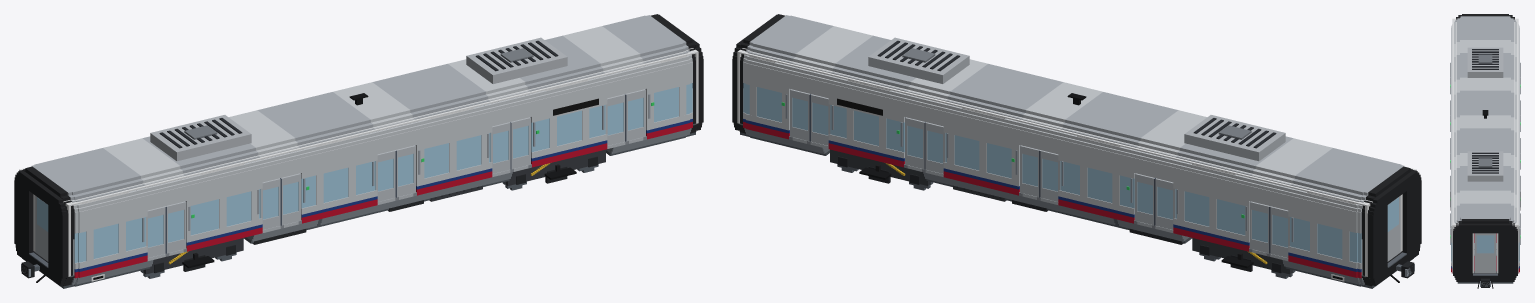
The model's file is mtr_mtrain_car.obj.
3 views of the same model, side by side, from view 1: azimuth 30°, elevation 25°; view 2: azimuth 150°, elevation 25°; view 3: azimuth 270°, elevation 25° (orthographic). The views are drawn at different scales.
Visible parts, largest first — view 1: SHELL, SHELL_roof, SHELL_diaphragm, SHELL_ceiling, BOGEY_FRONT, BOGEY_REAR, EXTERNAL_DOOR_10_CG_DR2_TOGGLE_TL_-0.64_X, EXTERNAL_DOOR_16_CG_DR3_TOGGLE_TL_-0.64_X, EXTERNAL_DOOR_22_CG_DR4_TOGGLE_TL_-0.64_X, EXTERNAL_DOOR_28_CG_DR5_TOGGLE_TL_-0.64_X, EXTERNAL_DOOR_5_CG_DR1_TOGGLE_TL_0.64_X, EXTERNAL_DOOR_11_CG_DR2_TOGGLE_TL_0.64_X (+8 smaller); view 2: SHELL, SHELL_roof, SHELL_diaphragm, SHELL_ceiling, BOGEY_FRONT, BOGEY_REAR, EXTERNAL_DOOR_13_CG_DL2_TOGGLE_TL_-0.64_X, EXTERNAL_DOOR_19_CG_DL3_TOGGLE_TL_-0.64_X, EXTERNAL_DOOR_25_CG_DL4_TOGGLE_TL_-0.64_X, EXTERNAL_DOOR_31_CG_DL5_TOGGLE_TL_-0.64_X, EXTERNAL_DOOR_8_CG_DL1_TOGGLE_TL_0.64_X, EXTERNAL_DOOR_14_CG_DL2_TOGGLE_TL_0.64_X (+8 smaller); view 3: SHELL, SHELL_diaphragm, SHELL_roof, SHELL_ceiling, CONNECTING_DOOR_2_CG_CF_TOGGLE_TL_0.98_Z, SHELL_end, SHELL_handle, FRAME, SHELL_gangway.
Part boxes in pixels (<box>): SHELL: <box>22,14,699,288</box>; SHELL_roof: <box>150,37,567,161</box>; SHELL_diaphragm: <box>14,14,703,285</box>; SHELL_ceiling: <box>21,48,696,205</box>; BOGEY_FRONT: <box>505,149,605,185</box>; BOGEY_REAR: <box>143,238,243,274</box>; EXTERNAL_DOOR_10_CG_DR2_TOGGLE_TL_-0.64_X: <box>260,178,281,229</box>; EXTERNAL_DOOR_16_CG_DR3_TOGGLE_TL_-0.64_X: <box>375,150,396,201</box>; EXTERNAL_DOOR_22_CG_DR4_TOGGLE_TL_-0.64_X: <box>490,122,511,173</box>; EXTERNAL_DOOR_28_CG_DR5_TOGGLE_TL_-0.64_X: <box>605,94,626,145</box>; EXTERNAL_DOOR_5_CG_DR1_TOGGLE_TL_0.64_X: <box>165,201,186,253</box>; EXTERNAL_DOOR_11_CG_DR2_TOGGLE_TL_0.64_X: <box>281,173,301,225</box>; SHELL: <box>736,14,1413,288</box>; SHELL_roof: <box>868,37,1285,161</box>; SHELL_diaphragm: <box>732,14,1421,285</box>; SHELL_ceiling: <box>739,48,1414,205</box>; BOGEY_FRONT: <box>830,149,930,185</box>; BOGEY_REAR: <box>1192,238,1292,274</box>; EXTERNAL_DOOR_13_CG_DL2_TOGGLE_TL_-0.64_X: <box>1154,178,1175,229</box>; EXTERNAL_DOOR_19_CG_DL3_TOGGLE_TL_-0.64_X: <box>1039,150,1060,201</box>; EXTERNAL_DOOR_25_CG_DL4_TOGGLE_TL_-0.64_X: <box>924,122,945,173</box>; EXTERNAL_DOOR_31_CG_DL5_TOGGLE_TL_-0.64_X: <box>809,94,830,145</box>; EXTERNAL_DOOR_8_CG_DL1_TOGGLE_TL_0.64_X: <box>1249,201,1270,253</box>; EXTERNAL_DOOR_14_CG_DL2_TOGGLE_TL_0.64_X: <box>1134,173,1154,225</box>; SHELL: <box>1451,14,1519,283</box>; SHELL_diaphragm: <box>1453,15,1517,281</box>; SHELL_roof: <box>1467,47,1503,181</box>; SHELL_ceiling: <box>1452,19,1518,224</box>; CONNECTING_DOOR_2_CG_CF_TOGGLE_TL_0.98_Z: <box>1474,233,1496,273</box>; SHELL_end: <box>1452,18,1518,273</box>; SHELL_handle: <box>1450,62,1520,244</box>; FRAME: <box>1477,278,1493,288</box>; SHELL_gangway: <box>1473,273,1497,275</box>.
Bounding box in the file's own units: 23.24 × 4.06 × 3.14.
1 material, 1 textured.
